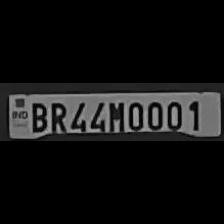0: (144, 98, 164, 130), (164, 98, 182, 130), (125, 100, 144, 130)
1: (184, 97, 204, 130)
4: (68, 98, 86, 132), (86, 99, 104, 131)
B: (28, 100, 48, 132)
M: (106, 98, 124, 132)
R: (47, 98, 65, 132)
